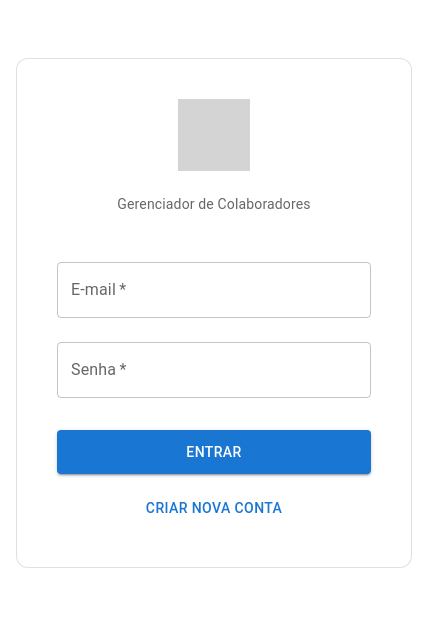
Login Component › exibe mensagem amigável para erro auth/too-many-requests
The image size is (429, 627).
Type "user@example.com" into the field labelled "E-mail *". click: x=214, y=290
box: left=57, top=262, right=371, bottom=318
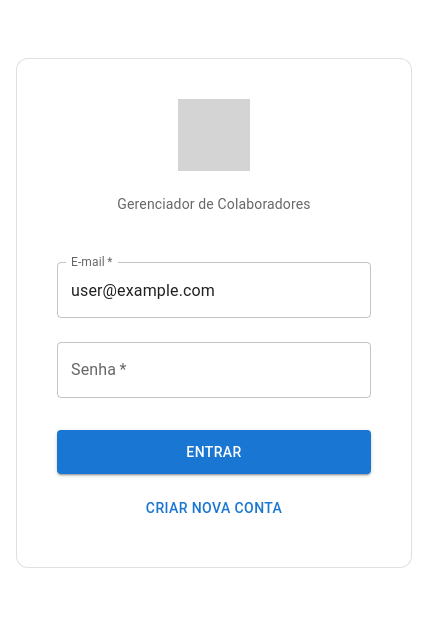
Type "password123" into the password field labelled "Senha *". click: x=214, y=370
box: left=57, top=342, right=371, bottom=398
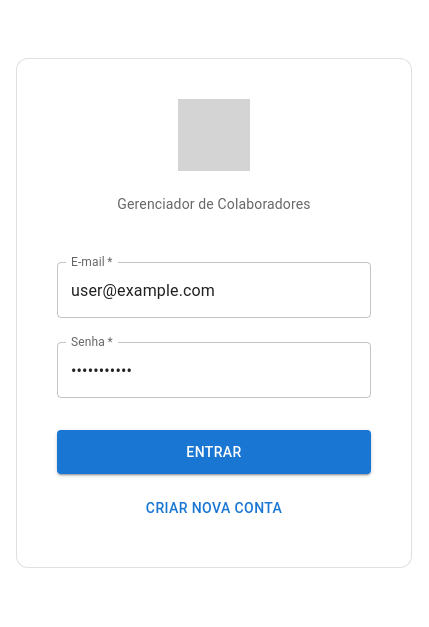
Click the button "Entrar". click: x=214, y=452
box: left=57, top=430, right=371, bottom=474
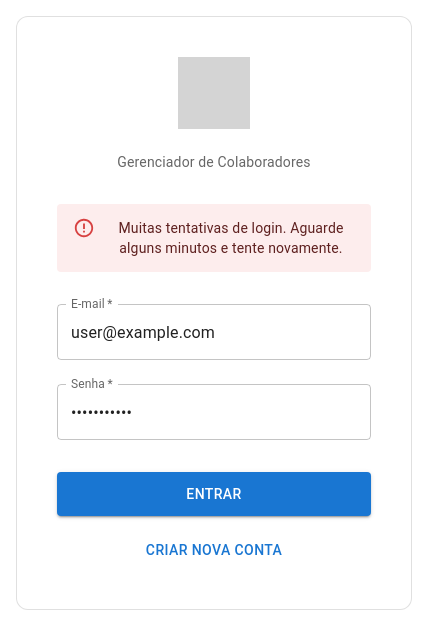
Now the text "Muitas tentativas de login. Aguarde alguns minutos e tente novamente." is shown, box left=107, top=210, right=355, bottom=266
